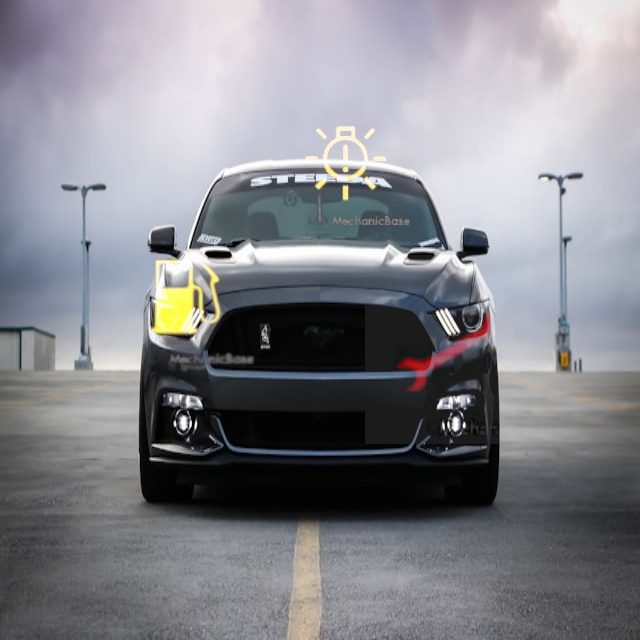symbol: (365, 255, 554, 444), (112, 224, 259, 371), (356, 69, 502, 215), (279, 96, 415, 232)
